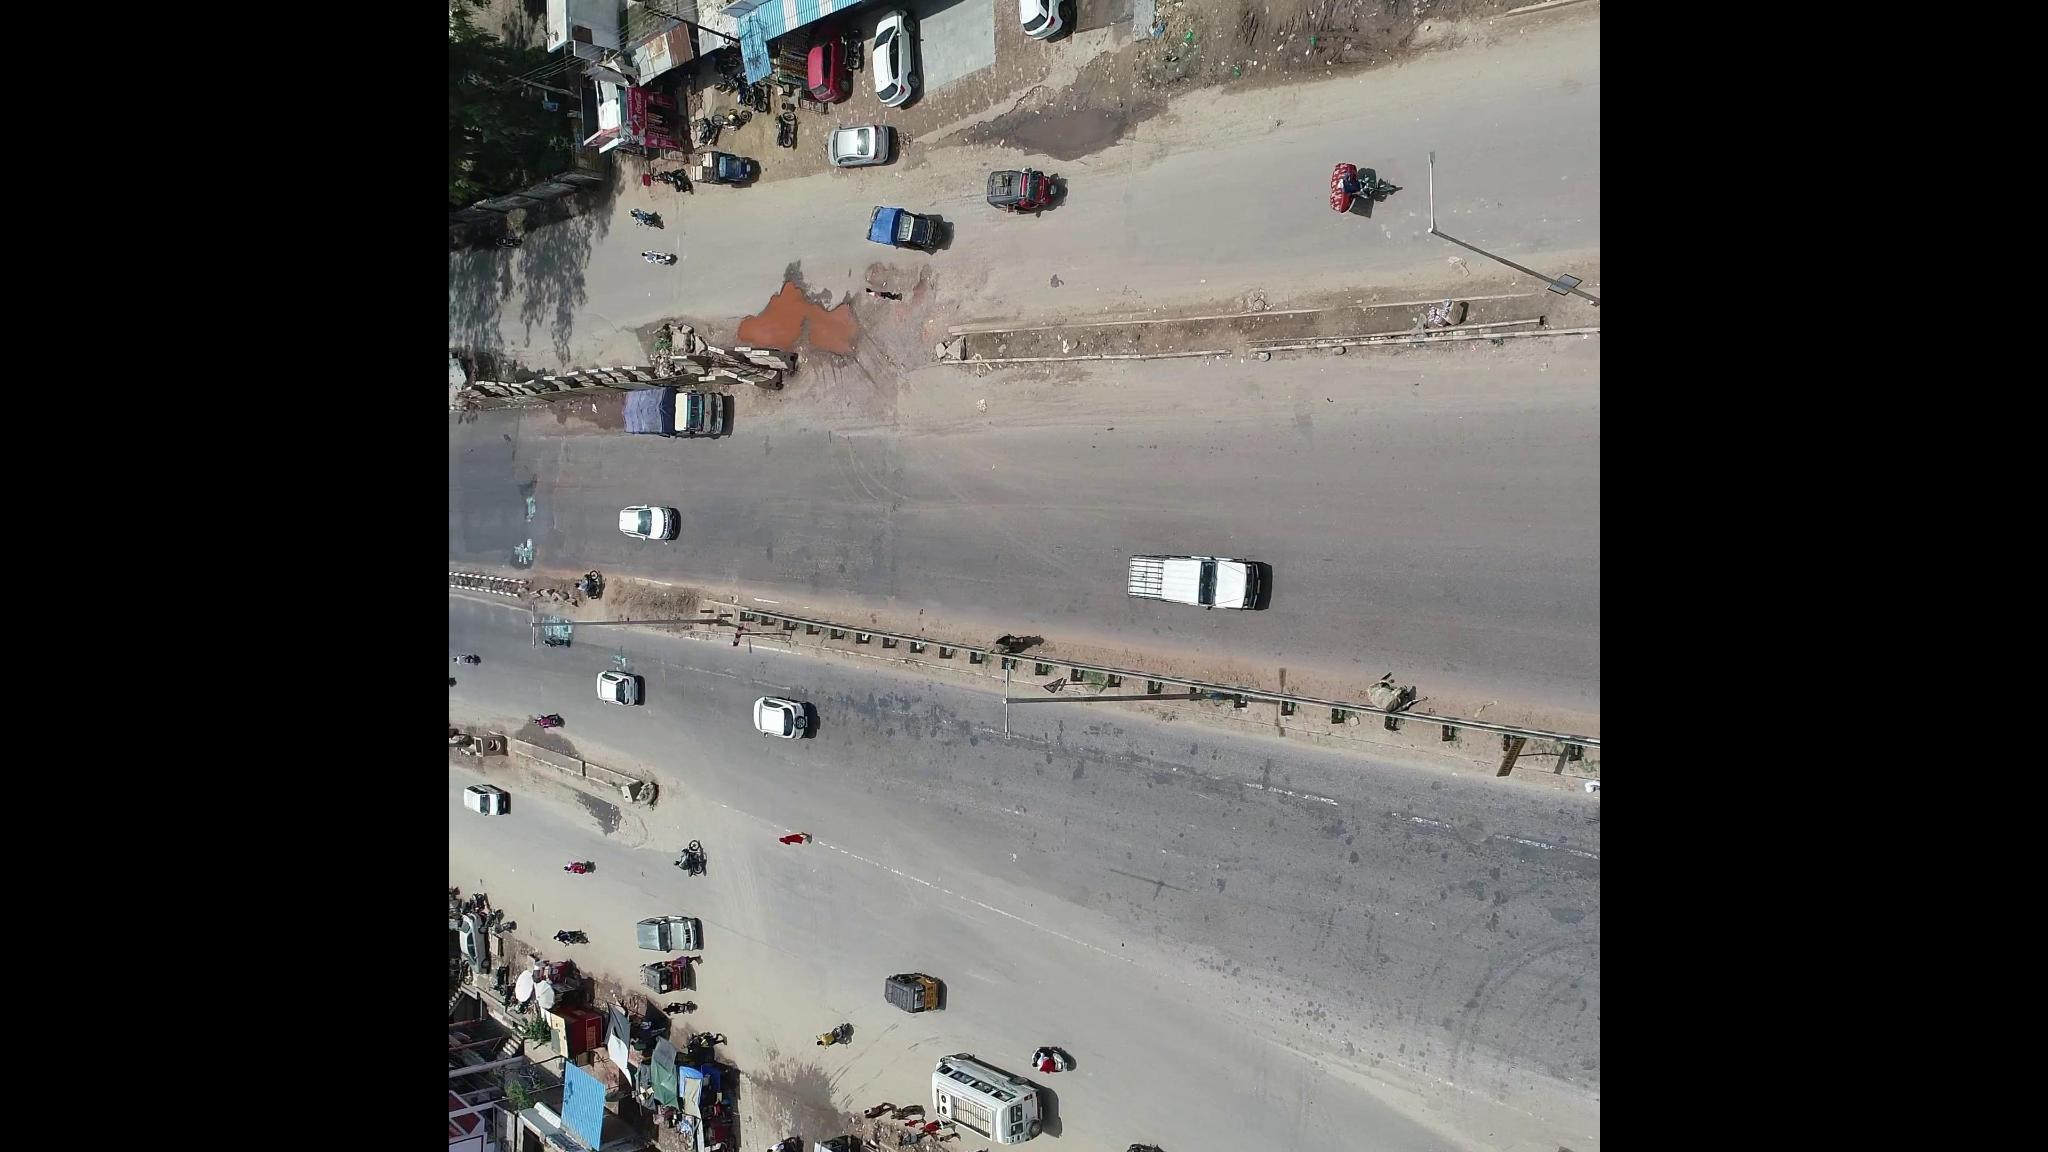Potholes: (753, 279, 859, 376)
Ravelling: (857, 698, 1145, 775)
